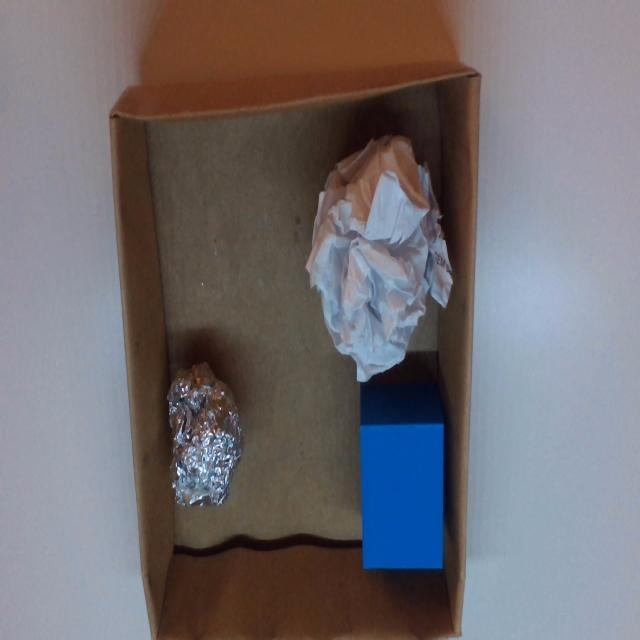Paper: (309, 138, 453, 389)
